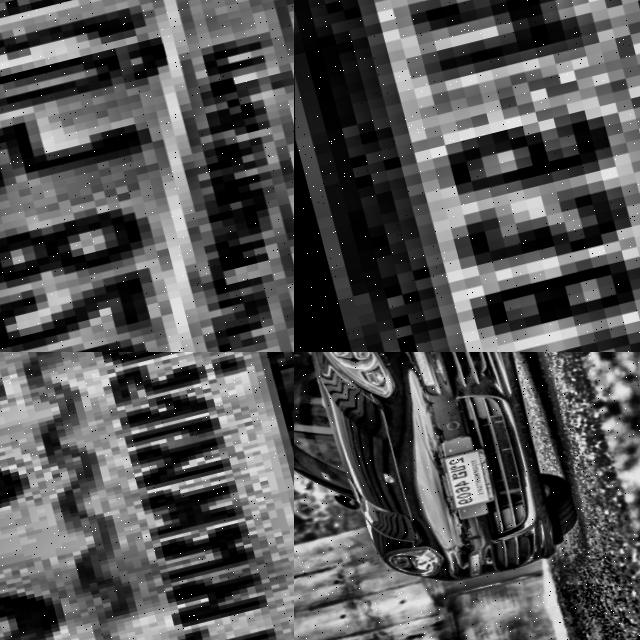license-plate: (294, 0, 640, 352), (0, 0, 294, 352), (0, 352, 294, 640), (432, 440, 503, 515)
